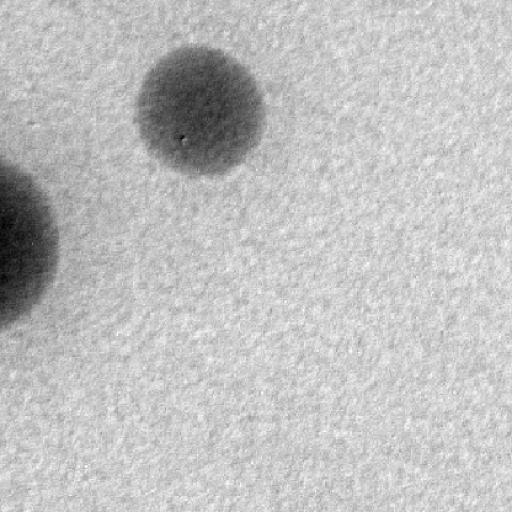Nanoparticles: (138, 44, 268, 180), (0, 157, 60, 329)
